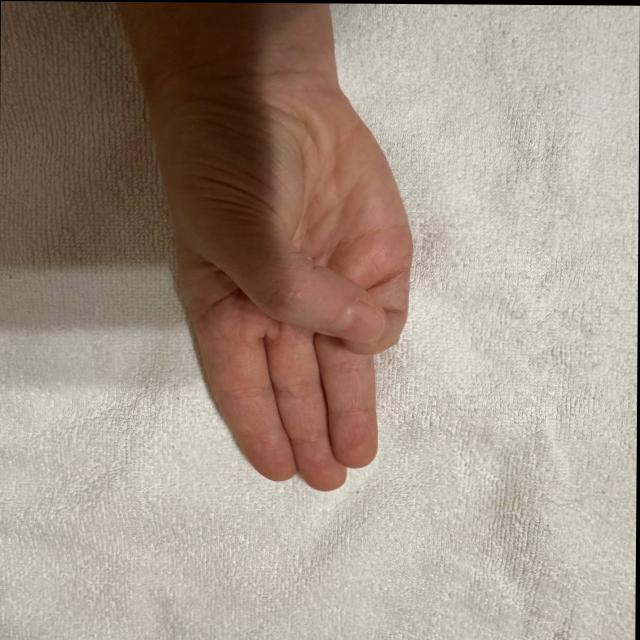sh: (119, 79, 458, 489)
